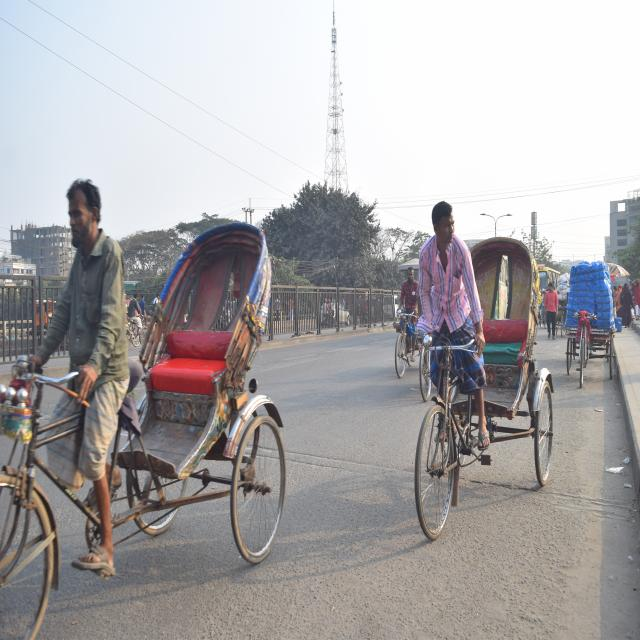bus: (536, 260, 562, 310)
